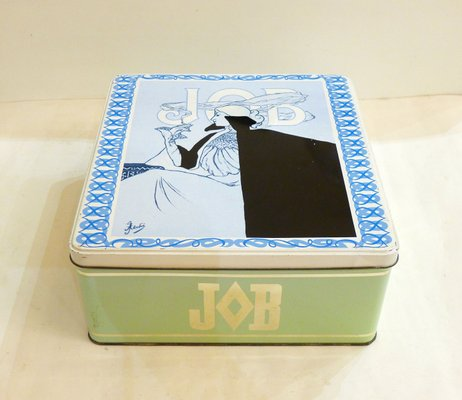metal: (66, 72, 400, 349)
